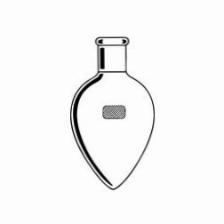Pear shaped flask: (68, 24, 154, 189)
